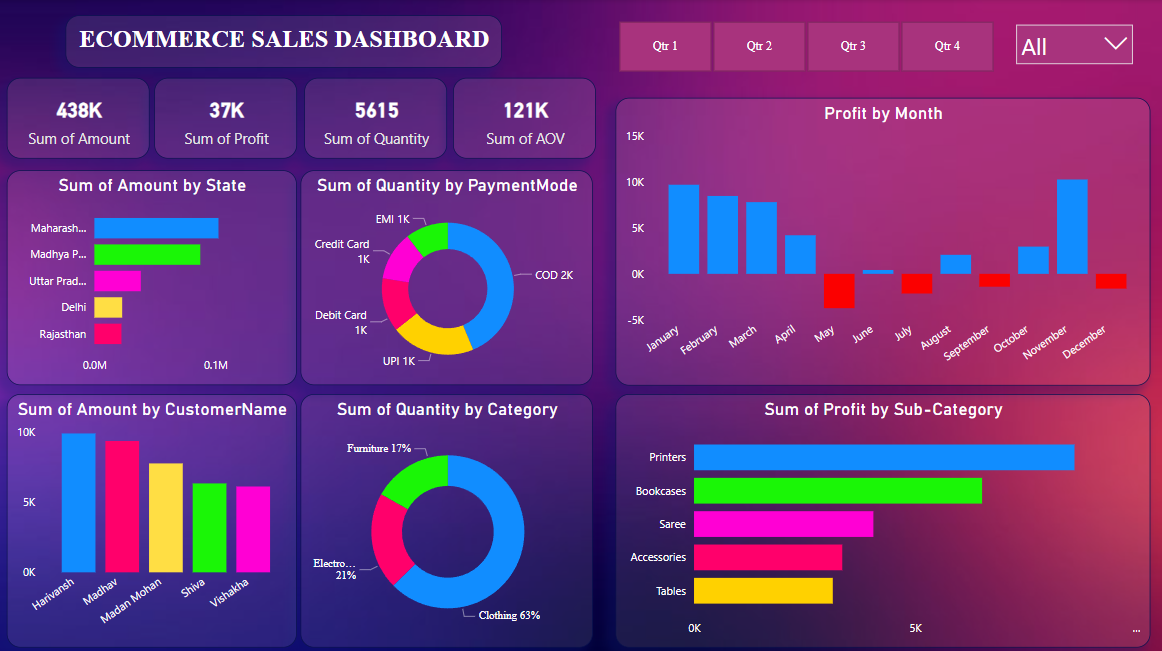

What the dashboard file says about the page in this screenshot:
{"tool":"powerbi","page":{"name":"Page 1","canvas":[1280,720],"ordinal":0},"visuals":[{"type":"textbox","title":"ECOMMERCE SALES DASHBOARD","box":[74.1,17.8,478.9,57.6],"z":0},{"type":"columnChart","title":"Profit by Month","fields":{"Y":["ECOMMERCE SALES DASHBOARD Data.Profit"],"Category":["Orders.Order Date.Variation.Date Hierarchy.Month"]},"box":[677.9,108.4,587.3,315.6],"z":1000},{"type":"barChart","fields":{"Category":["ECOMMERCE SALES DASHBOARD Data.Sub-Category"],"Y":["ECOMMERCE SALES DASHBOARD Data.Profit"]},"box":[677.9,433.6,587.3,278.6],"z":2000},{"type":"donutChart","fields":{"Category":["ECOMMERCE SALES DASHBOARD Data.Category"],"Y":["ECOMMERCE SALES DASHBOARD Data.Quantity"]},"box":[332.1,433.6,321.1,278.6],"z":3000},{"type":"donutChart","fields":{"Category":["ECOMMERCE SALES DASHBOARD Data.PaymentMode"],"Y":["ECOMMERCE SALES DASHBOARD Data.Quantity"]},"box":[332.1,188,321.1,236],"z":4000},{"type":"card","fields":{"Values":["ECOMMERCE SALES DASHBOARD Data.Quantity"]},"box":[336.2,86.4,156.4,89.2],"z":5000},{"type":"card","fields":{"Values":["ECOMMERCE SALES DASHBOARD Data.AOV"]},"box":[499.5,86.4,156.4,89.2],"z":6000},{"type":"card","fields":{"Values":["ECOMMERCE SALES DASHBOARD Data.Profit"]},"box":[171.5,86.4,156.4,89.2],"z":7000},{"type":"card","fields":{"Values":["ECOMMERCE SALES DASHBOARD Data.Amount"]},"box":[9.6,86.4,156.4,89.2],"z":8000},{"type":"barChart","fields":{"Category":["Orders.State"],"Y":["ECOMMERCE SALES DASHBOARD Data.Amount"]},"box":[9.6,188,318.4,236],"z":9000},{"type":"columnChart","fields":{"Category":["Orders.CustomerName"],"Y":["ECOMMERCE SALES DASHBOARD Data.Amount"]},"box":[9.6,433.6,318.4,278.6],"z":10000},{"type":"slicer","fields":{"Values":["Orders.Order Date.Variation.Date Hierarchy.Quarter"]},"box":[655.9,17.8,461.1,68.6],"z":11000},{"type":"slicer","fields":{"Values":["Orders.State"]},"box":[1107.4,17.8,148.2,68.6],"z":12000}]}

Visuals, with their boxes in screenshot pixels (x1, y1, x2, y2), scaled from the page's 1280x720 canvas onto the 1162x651 screenshot:
"ECOMMERCE SALES DASHBOARD" textbox: locate(67, 16, 502, 68)
"Profit by Month" columnChart: locate(615, 98, 1149, 383)
barChart - ECOMMERCE SALES DASHBOARD Data.Sub-Category x ECOMMERCE SALES DASHBOARD Data.Profit: locate(615, 392, 1149, 644)
donutChart - ECOMMERCE SALES DASHBOARD Data.Category x ECOMMERCE SALES DASHBOARD Data.Quantity: locate(301, 392, 593, 644)
donutChart - ECOMMERCE SALES DASHBOARD Data.PaymentMode x ECOMMERCE SALES DASHBOARD Data.Quantity: locate(301, 170, 593, 383)
card - ECOMMERCE SALES DASHBOARD Data.Quantity: locate(305, 78, 447, 159)
card - ECOMMERCE SALES DASHBOARD Data.AOV: locate(453, 78, 595, 159)
card - ECOMMERCE SALES DASHBOARD Data.Profit: locate(156, 78, 298, 159)
card - ECOMMERCE SALES DASHBOARD Data.Amount: locate(9, 78, 151, 159)
barChart - Orders.State x ECOMMERCE SALES DASHBOARD Data.Amount: locate(9, 170, 298, 383)
columnChart - Orders.CustomerName x ECOMMERCE SALES DASHBOARD Data.Amount: locate(9, 392, 298, 644)
slicer - Orders.Order Date.Variation.Date Hierarchy.Quarter: locate(595, 16, 1014, 78)
slicer - Orders.State: locate(1005, 16, 1140, 78)
